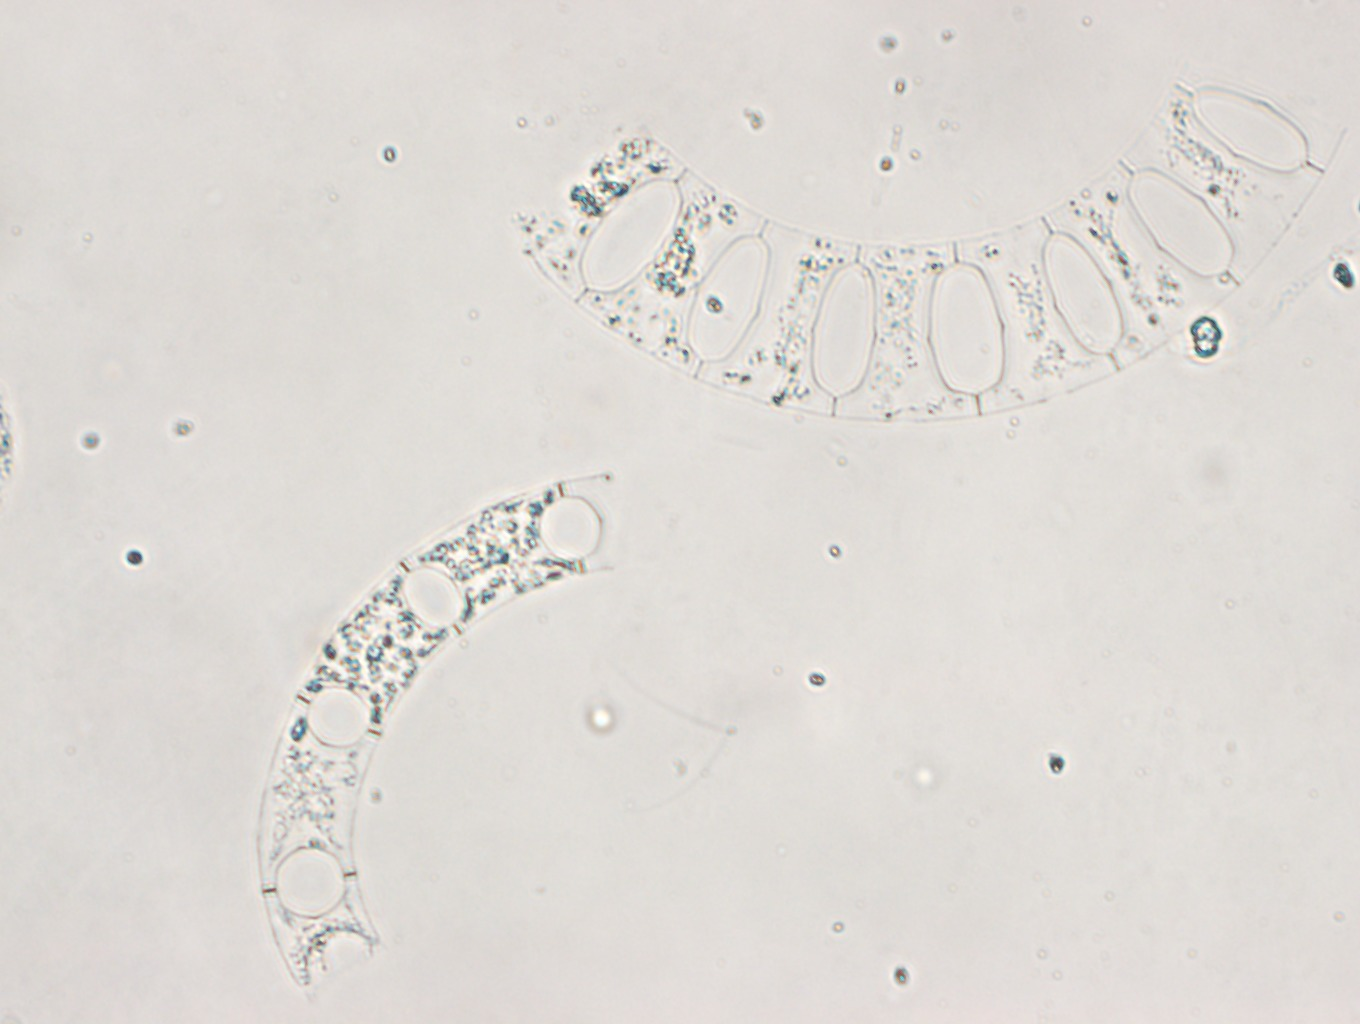eucampia: (510, 53, 1346, 427), (252, 469, 620, 999)
